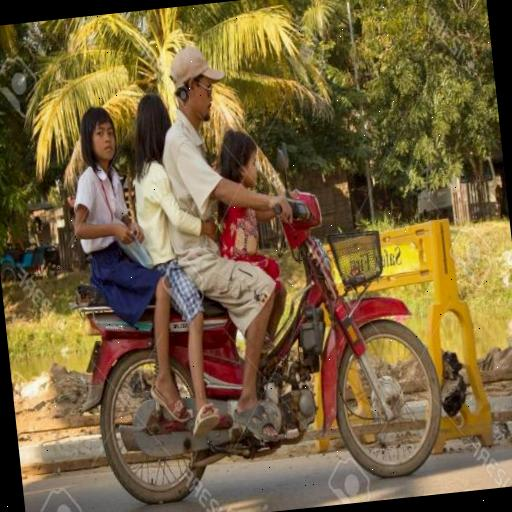no helmet: (174, 47, 230, 144)
triple riding: (40, 19, 462, 512)
